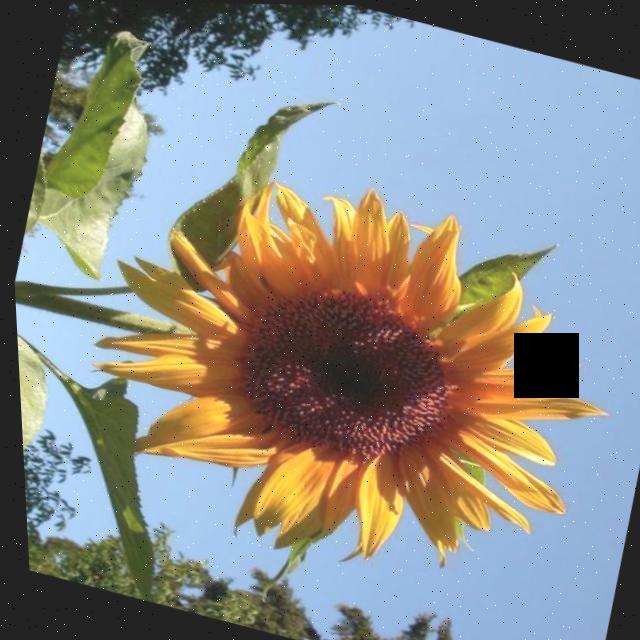sunflower: (3, 79, 640, 631)
